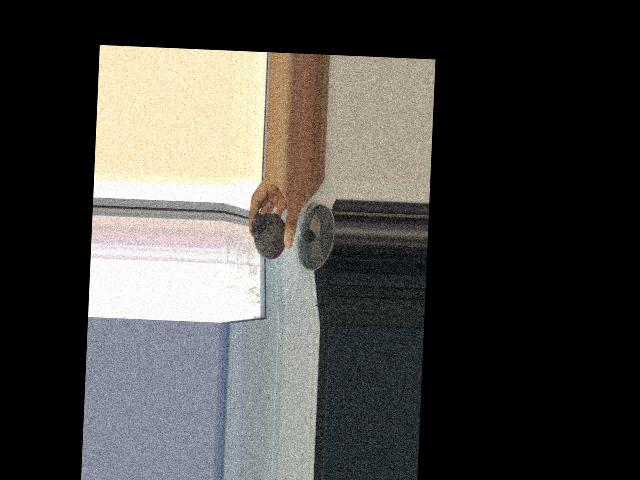beet: (250, 199, 287, 260)
